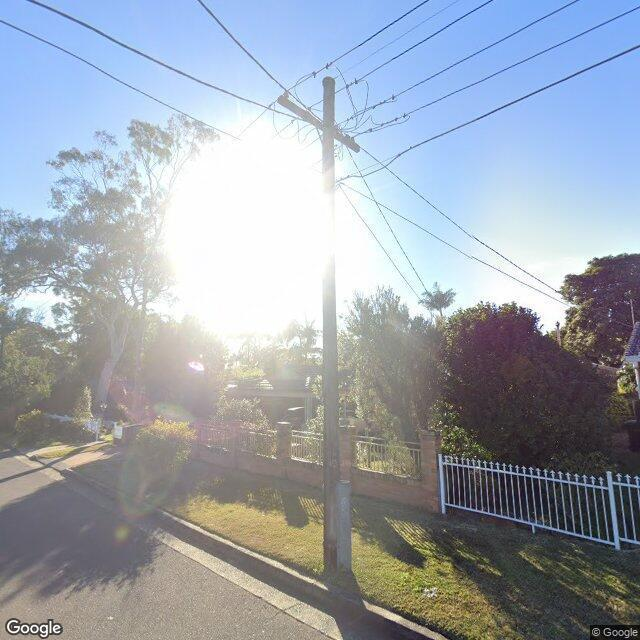crossarm: (276, 97, 362, 154)
timber-pole: (322, 77, 336, 573)
